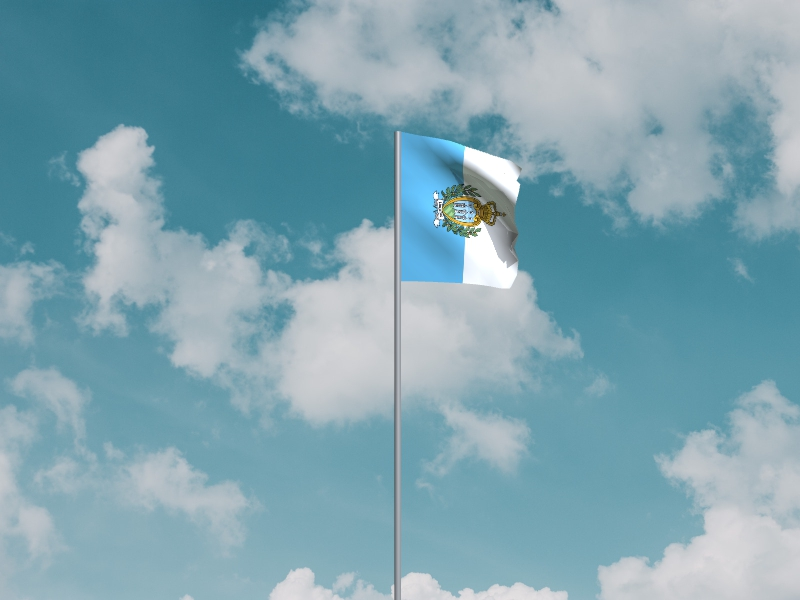sm: (401, 133, 524, 290)
